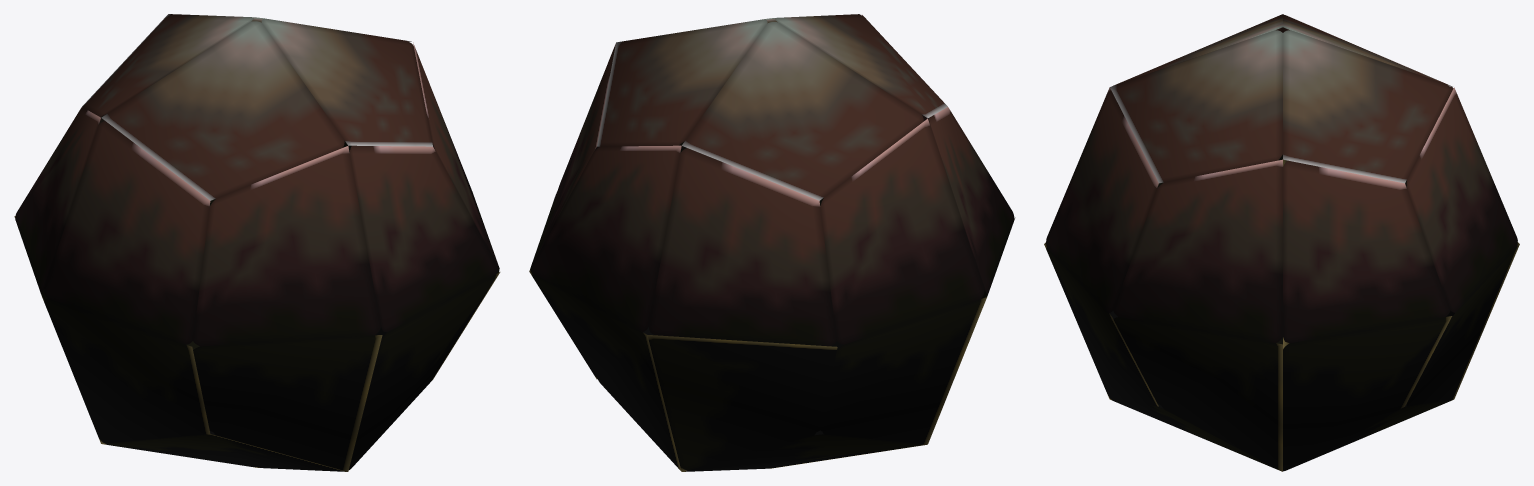
3 renders of one model, left to right at view 1: azimuth 30°, elevation 25°; view 2: azimuth 150°, elevation 25°; view 3: azimuth 270°, elevation 25°, orthographic. The views are drawn at different scales.
Visible parts, largest first — view 1: T1L3M000_5; view 2: T1L3M000_5; view 3: T1L3M000_5.
Boxes of the visible parts, x1,y1,x2,y2 form: T1L3M000_5: (14, 14, 500, 471); T1L3M000_5: (529, 14, 1015, 471); T1L3M000_5: (1044, 14, 1519, 471).
Size of the model in its own units: 0.2549 by 0.2549 by 0.2549.
